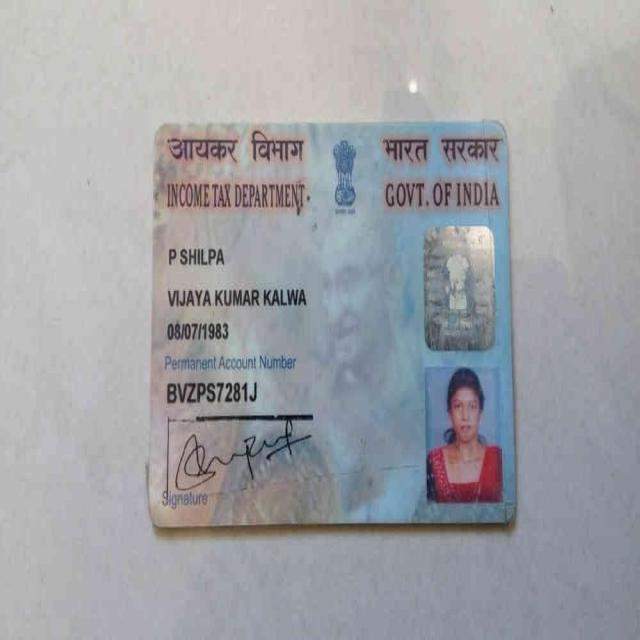pan_card: (156, 125, 508, 528)
